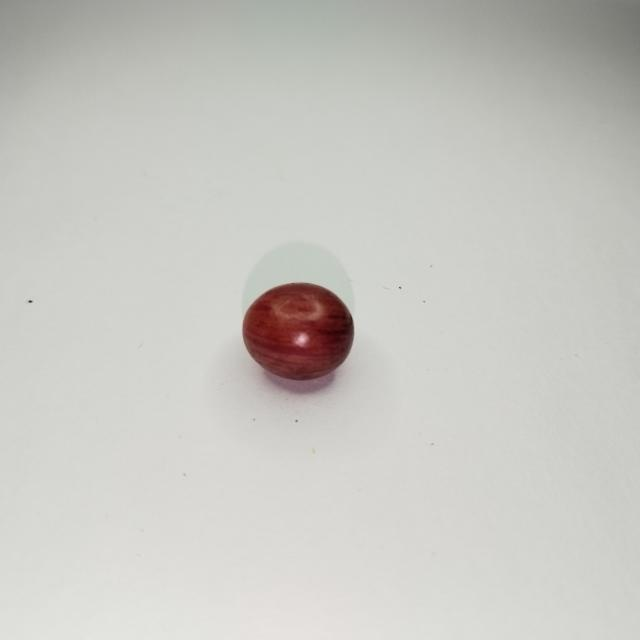Sano: (243, 283, 352, 381)
